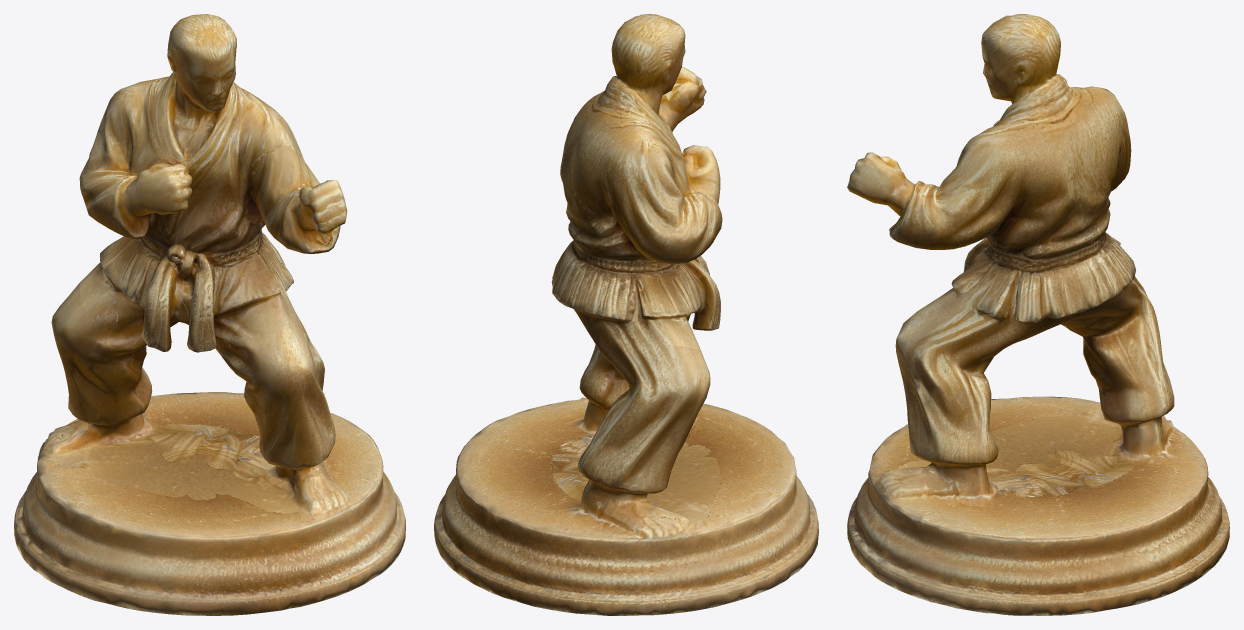
The model's file is draw_statue3_gold.glb.
The picture shows the model from 3 angles, left to right: view 1: azimuth 30°, elevation 25°; view 2: azimuth 150°, elevation 25°; view 3: azimuth 270°, elevation 25°; orthographic projection. The views are drawn at different scales.
Visible parts, largest first — view 1: texture_mapping; view 2: texture_mapping; view 3: texture_mapping.
Boxes of the visible parts, left/top/right/bottom form: texture_mapping: left=14, top=14, right=405, bottom=615; texture_mapping: left=434, top=14, right=818, bottom=615; texture_mapping: left=847, top=14, right=1229, bottom=615.
Bounding box in the file's own units: 0.6785 × 1 × 0.6792.
1 material, 1 textured.
